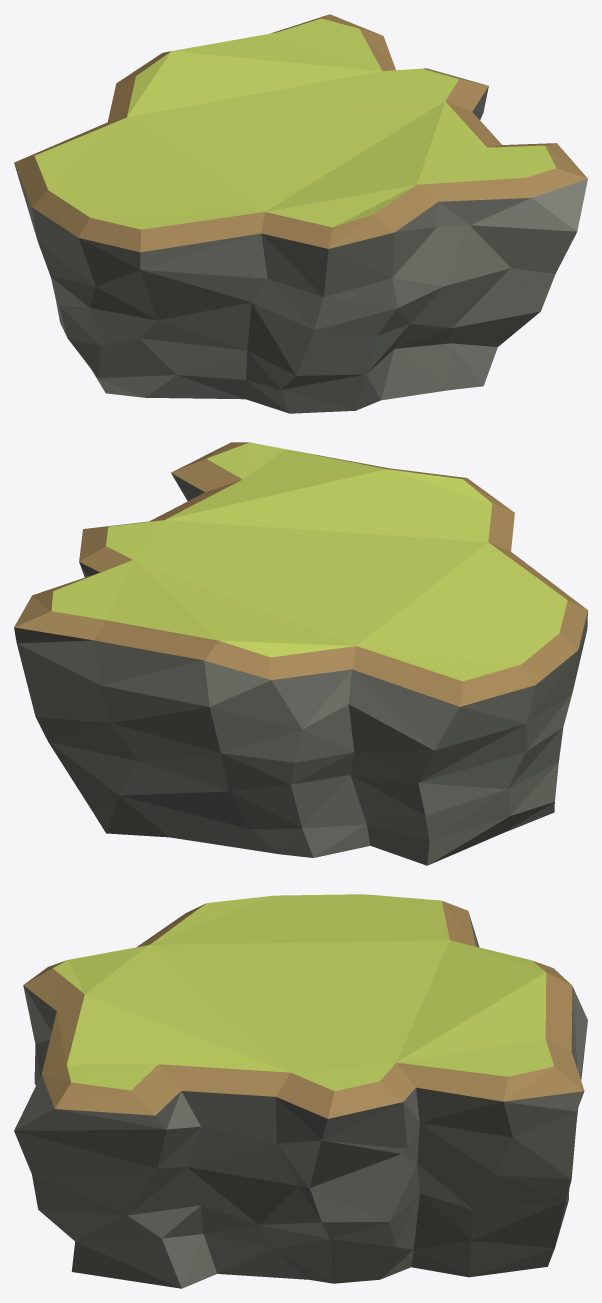
The model's file is clif.dae.
3 views of the same model, one above another, from view 1: azimuth 30°, elevation 25°; view 2: azimuth 150°, elevation 25°; view 3: azimuth 270°, elevation 25° (orthographic). The views are drawn at different scales.
Parts seen in each view (by area): view 1: Plane, Plane_001, Plane_002; view 2: Plane, Plane_001, Plane_002; view 3: Plane, Plane_001, Plane_002.
Part boxes in pixels (<box>): Plane: <box>14,86,587,413</box>; Plane_001: <box>34,18,555,229</box>; Plane_002: <box>14,14,587,252</box>; Plane: <box>14,473,587,865</box>; Plane_001: <box>51,442,567,681</box>; Plane_002: <box>14,442,587,706</box>; Plane: <box>14,912,587,1288</box>; Plane_001: <box>53,894,553,1091</box>; Plane_002: <box>23,901,584,1118</box>.
Size of the model in its own units: 2.85 by 2.8 by 1.31.
